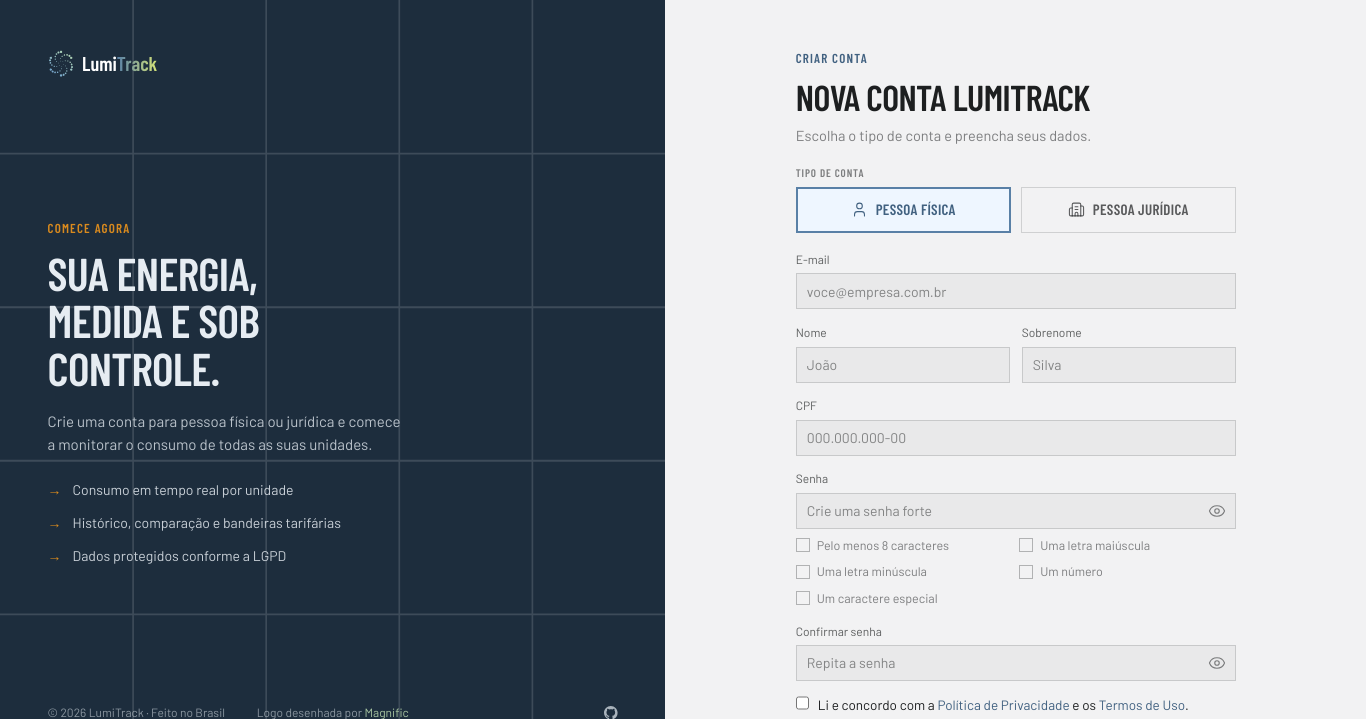
Test: RegisterPage — máscaras › aplica máscara de CNPJ conforme digita
The image size is (1366, 719).
Click the button labelled "Pessoa Jurídica" at [1128, 210], box top-left (1021, 187), bottom-right (1236, 233)
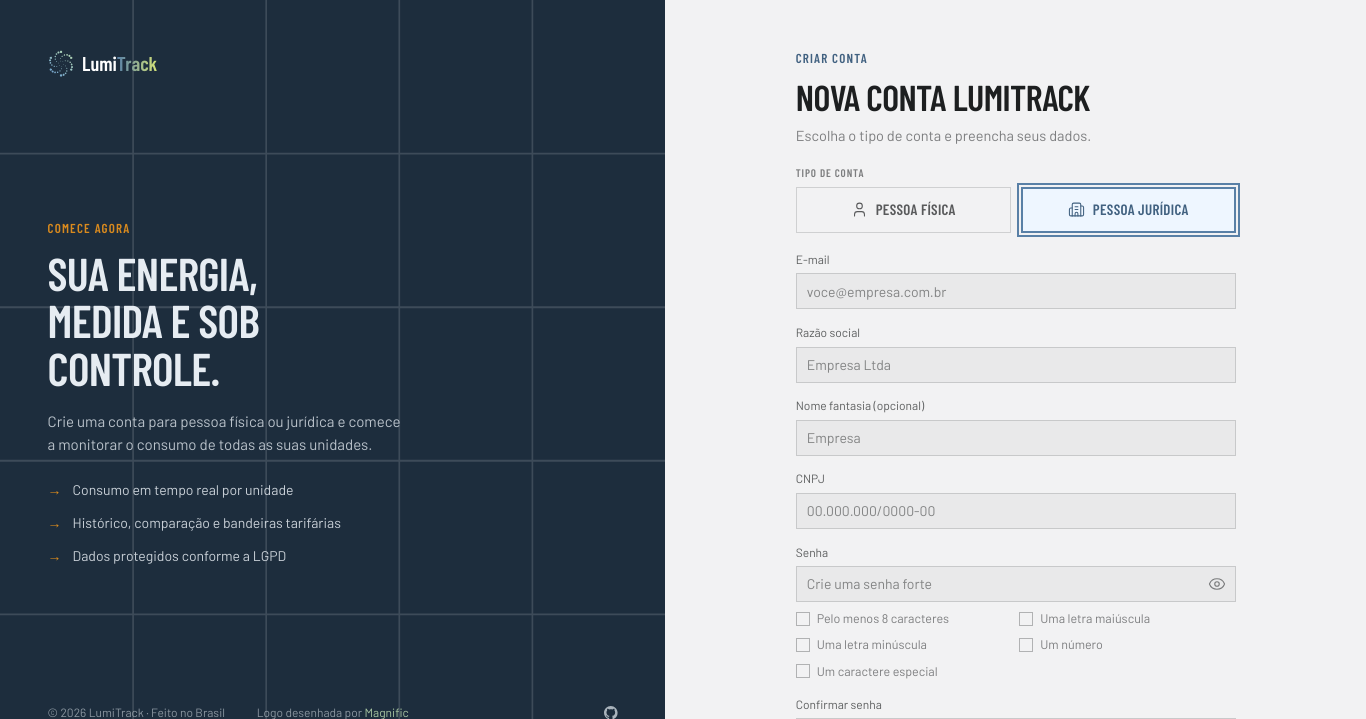
Type "11222333000181" into the field labelled "CNPJ" at [1016, 511], box top-left (796, 493), bottom-right (1236, 529)
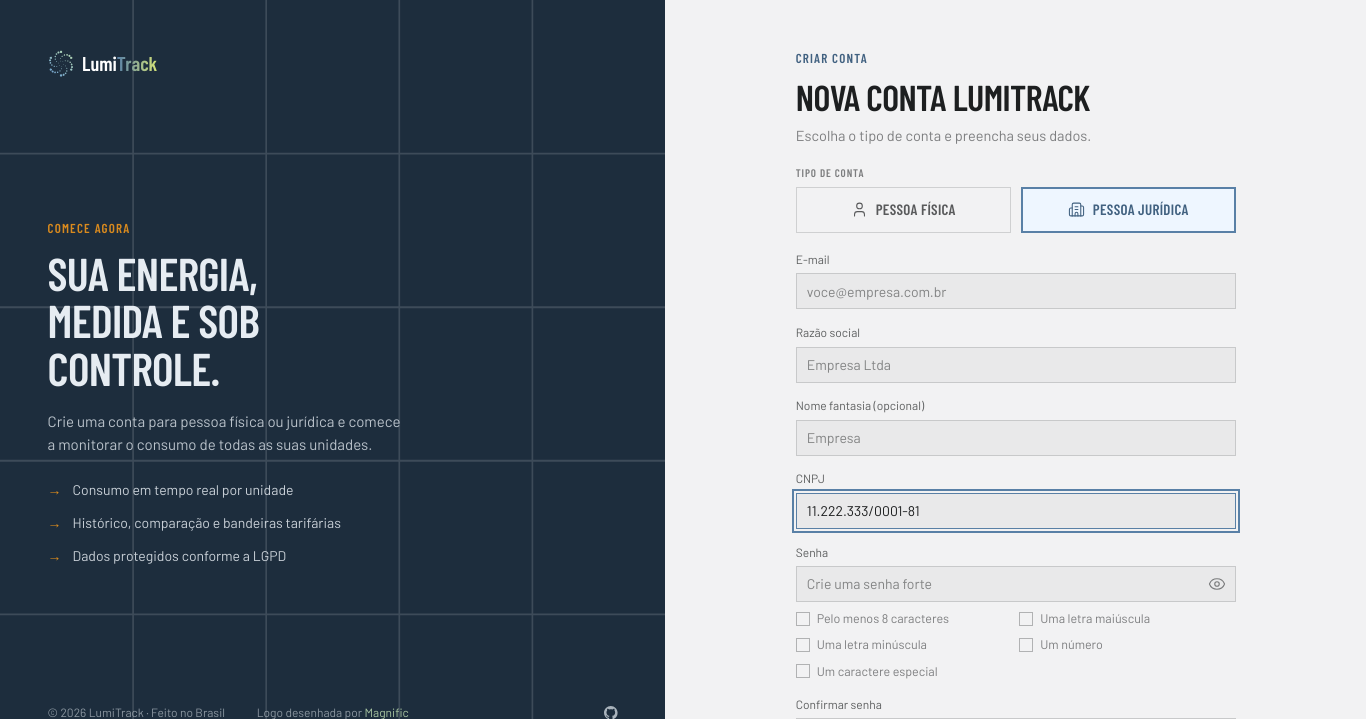
Check: the field labelled "CNPJ" holds "11.222.333/0001-81", box top-left (796, 493), bottom-right (1236, 529)
